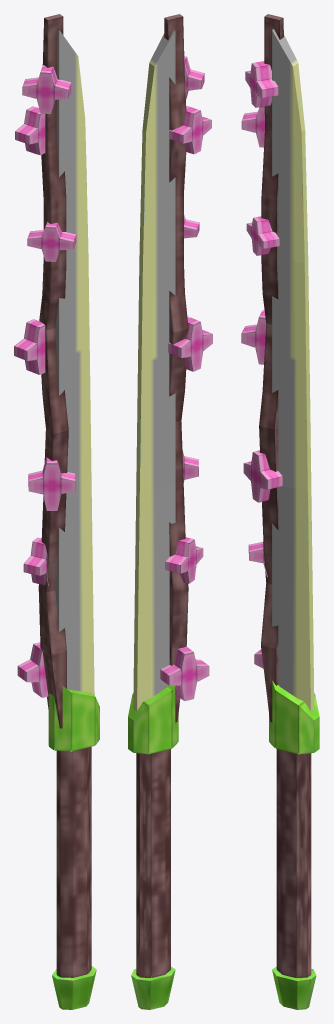
Rendered from pixel_sword2_lowpoly.fbx.
The picture shows the model from 3 angles, left to right: view 1: azimuth 30°, elevation 25°; view 2: azimuth 210°, elevation 25°; view 3: azimuth 330°, elevation 25°; orthographic projection.
Visible parts, largest first — view 1: psx_sword2_blade, psx_sword2_handle, psx_sword2_wood, psx_sword2_flower; view 2: psx_sword2_blade, psx_sword2_handle, psx_sword2_wood, psx_sword2_flower; view 3: psx_sword2_blade, psx_sword2_handle, psx_sword2_wood, psx_sword2_flower.
Part boxes in pixels (x1=…): psx_sword2_blade: x1=55, y1=28, x2=94, y2=695; psx_sword2_handle: x1=48, y1=686, x2=99, y2=1009; psx_sword2_wood: x1=38, y1=14, x2=68, y2=728; psx_sword2_flower: x1=14, y1=65, x2=76, y2=697; psx_sword2_blade: x1=133, y1=29, x2=175, y2=711; psx_sword2_handle: x1=128, y1=685, x2=178, y2=1009; psx_sword2_wood: x1=164, y1=14, x2=188, y2=722; psx_sword2_flower: x1=160, y1=56, x2=212, y2=700; psx_sword2_blade: x1=272, y1=28, x2=314, y2=711; psx_sword2_handle: x1=269, y1=681, x2=319, y2=1009; psx_sword2_wood: x1=259, y1=14, x2=283, y2=722; psx_sword2_flower: x1=241, y1=61, x2=282, y2=668.
Size of the model in its own units: 15.52 by 189 by 10.33.
4 materials, 4 textured.
